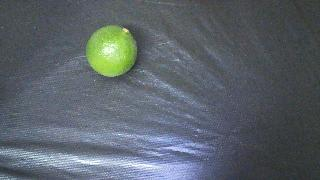LOCAL: (86, 25, 137, 77)
